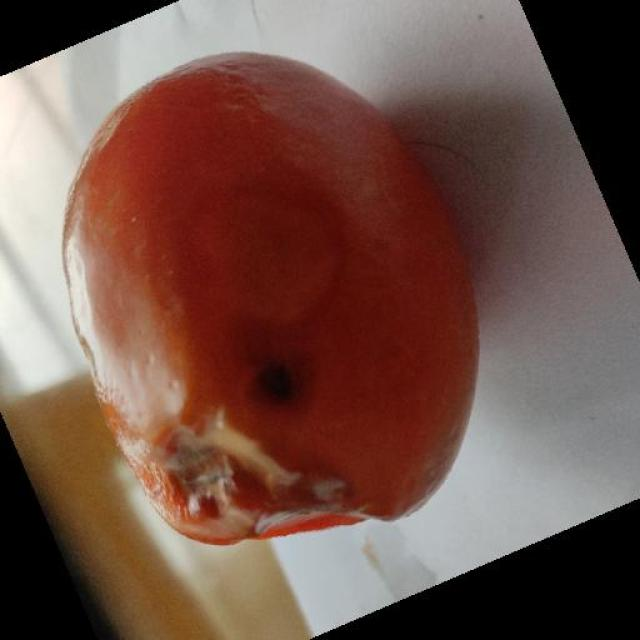Stale_tomato: (0, 66, 564, 584)
